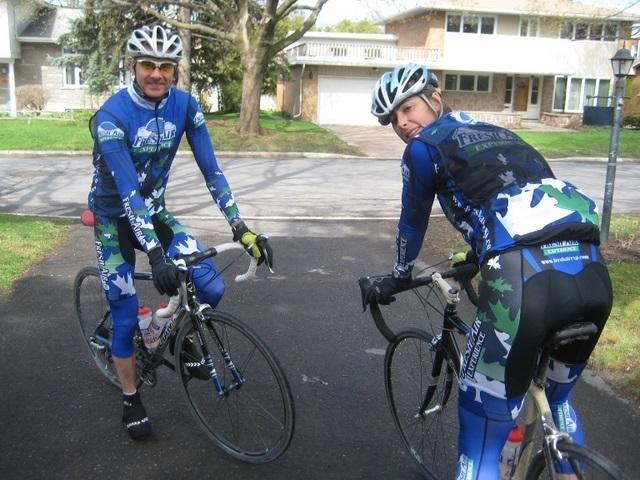non-vehicle: (357, 251, 631, 479), (72, 210, 295, 463)
